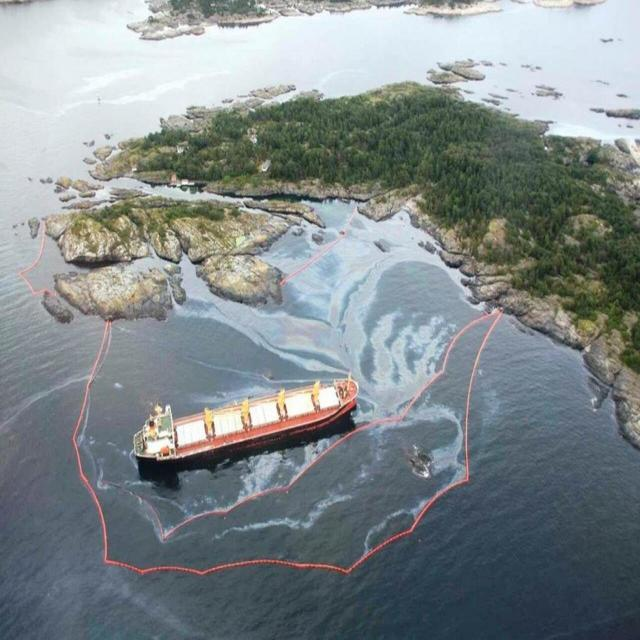sheen: (178, 202, 458, 413), (404, 404, 464, 470), (286, 431, 338, 490), (242, 454, 283, 494)
